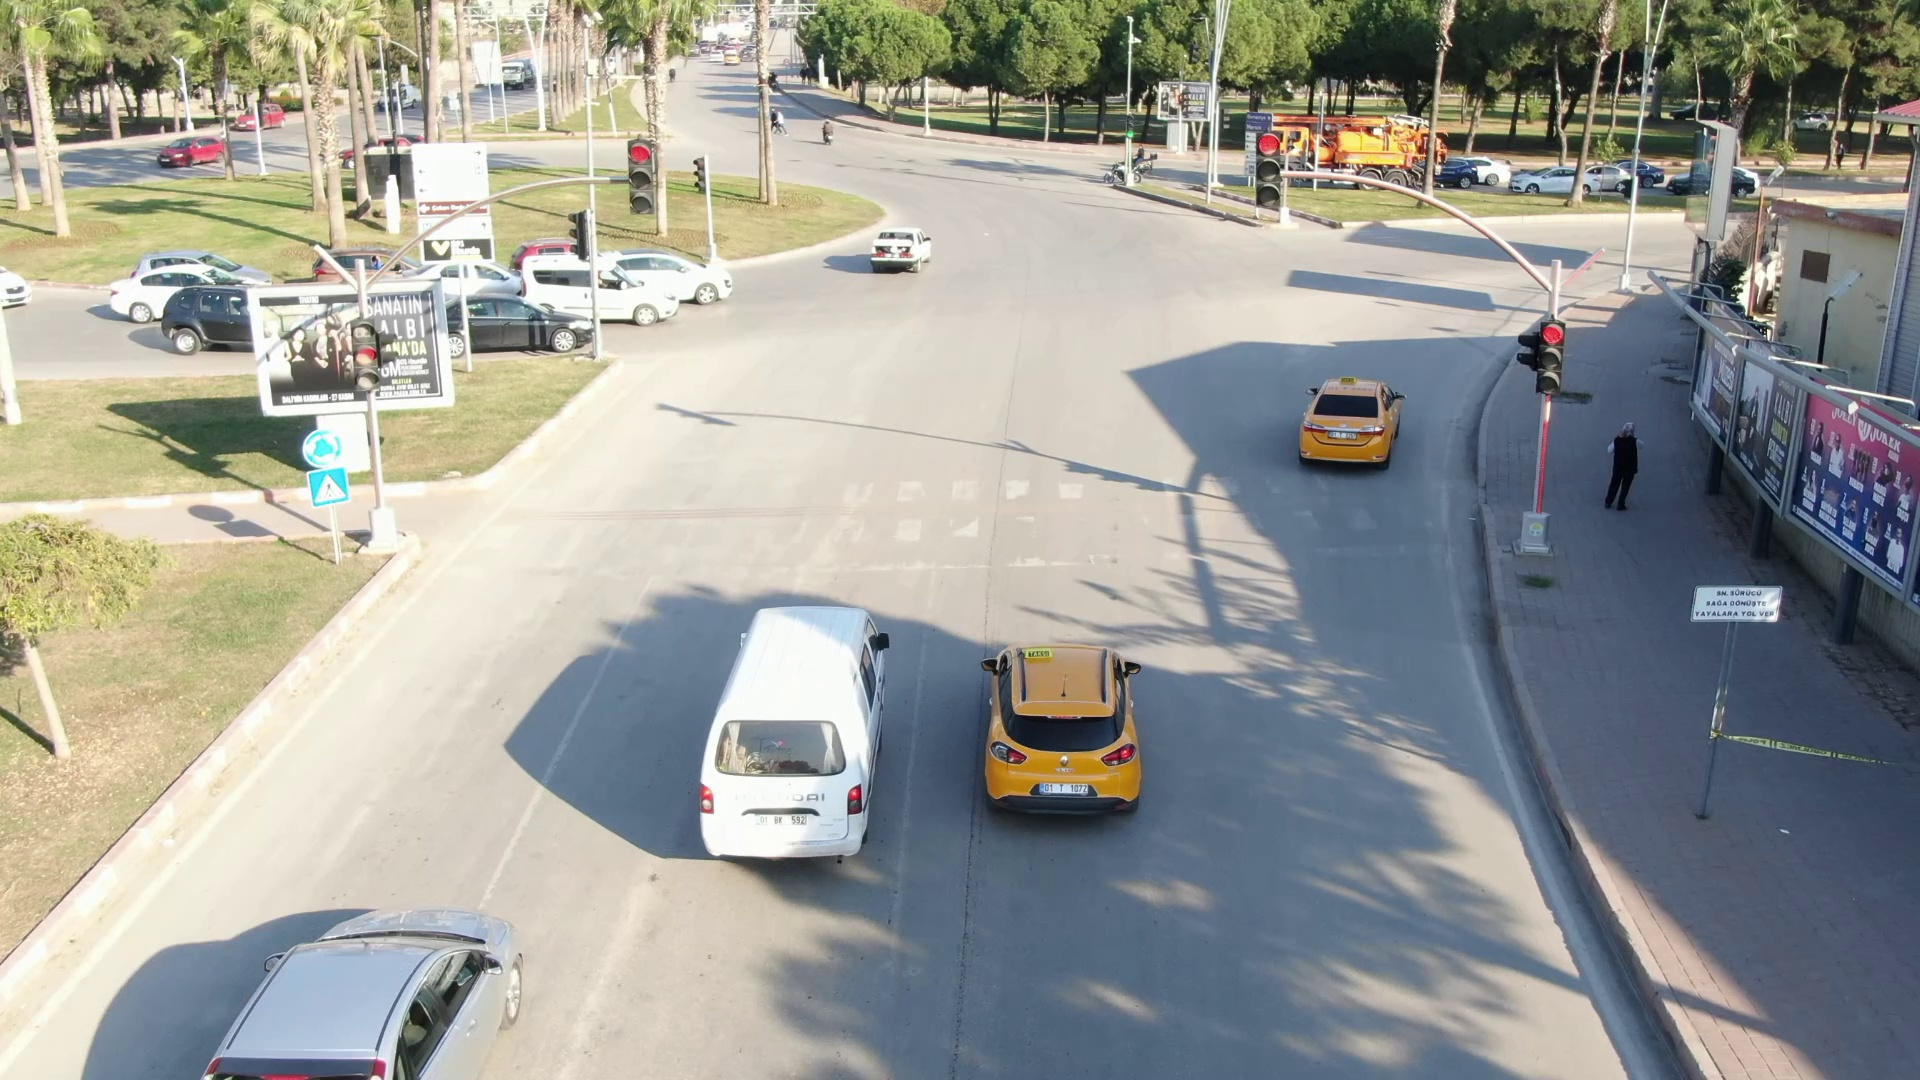car: (188, 902, 551, 1080), (692, 588, 892, 872), (972, 633, 1147, 819), (510, 241, 678, 321), (1296, 374, 1404, 478), (596, 243, 735, 310), (433, 296, 600, 351), (863, 225, 933, 276)
person: (1598, 421, 1653, 525)
